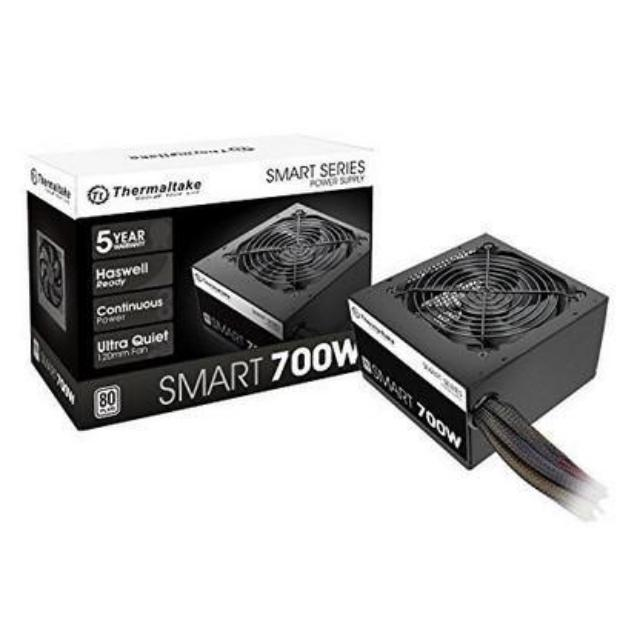PSU: (344, 229, 626, 480)
